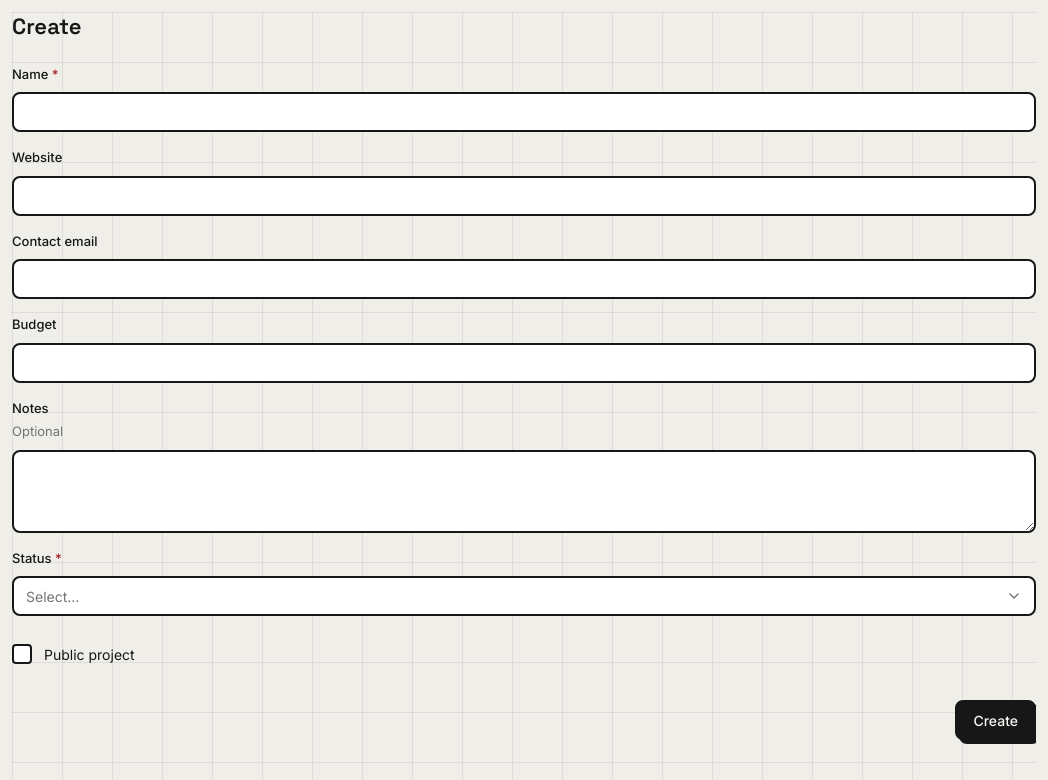
Test case: CreateEditForm › checks the shape of url, email and number values
Type "Atlas" into the field labelled "Name *" at (524, 112), box [26,94,1022,130]
Click the dropdown named "Status" at (53, 596), box [12,576,1036,616]
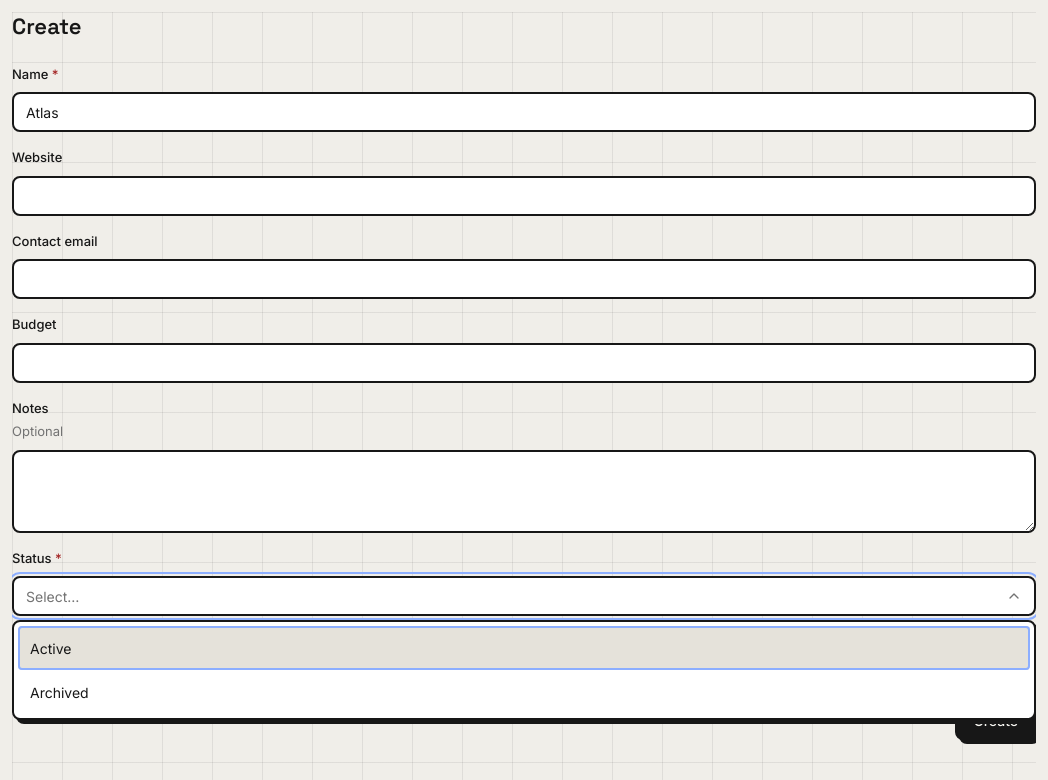
Click the option "Active" at (51, 648), box [18,626,1030,670]
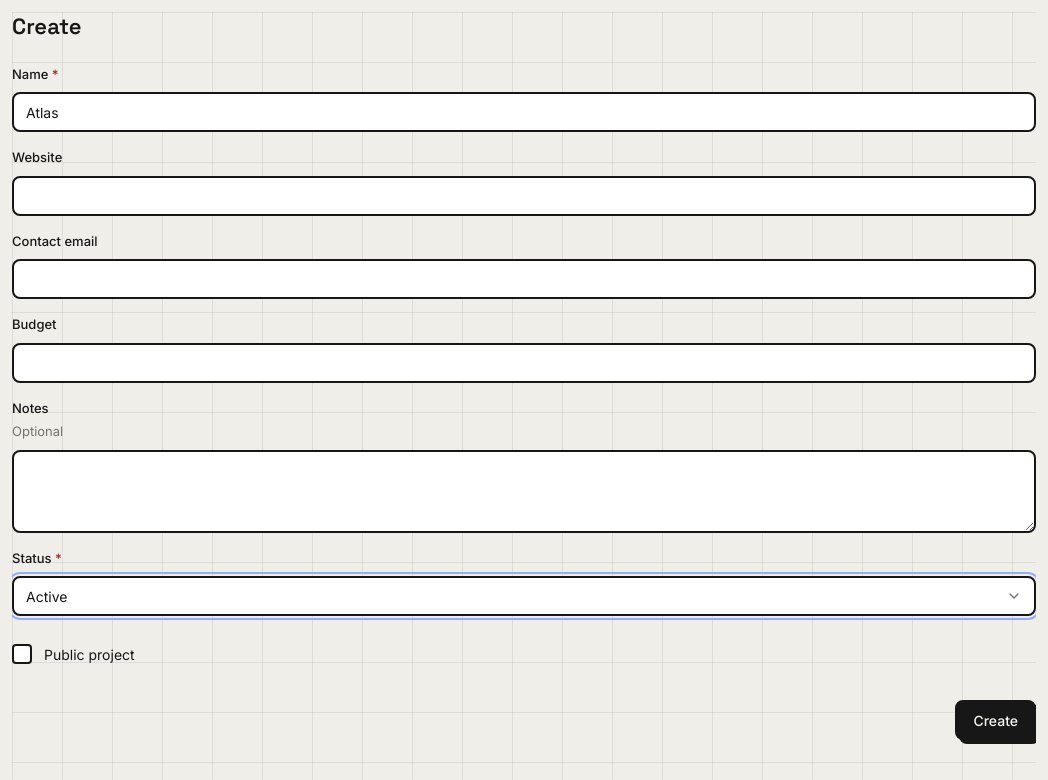
Type "example.com" into the field labelled "Website" at (524, 196), box [26,178,1022,214]
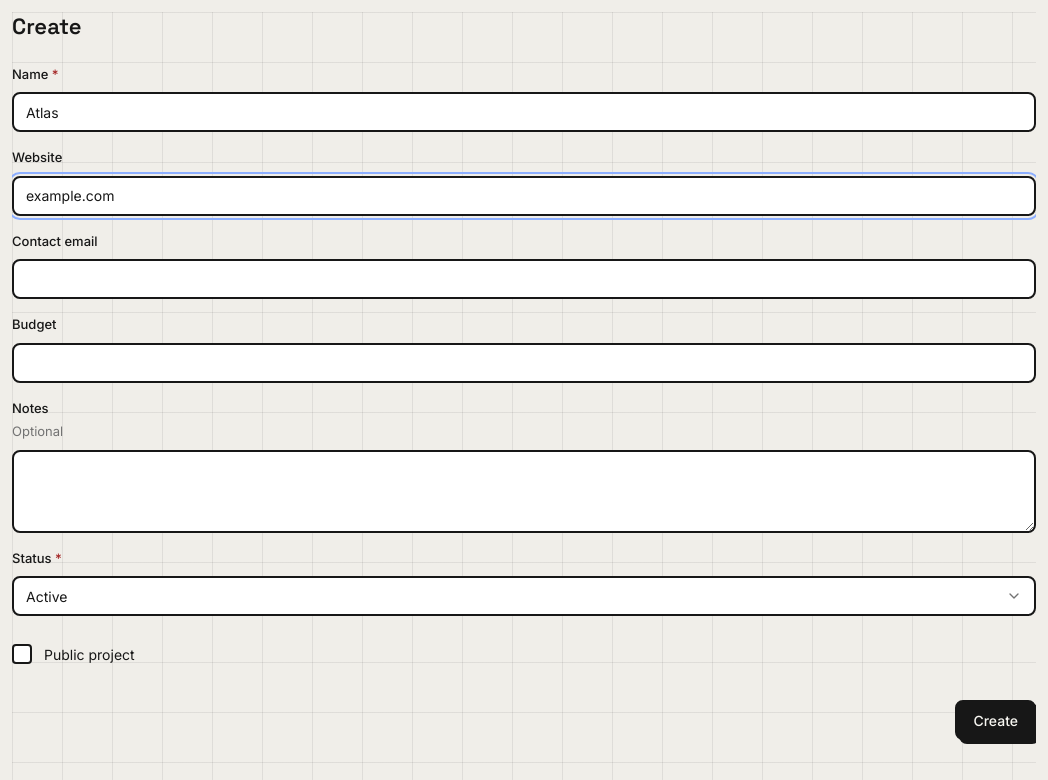
Type "nope" into the field labelled "Contact email" at (524, 279), box [26,261,1022,297]
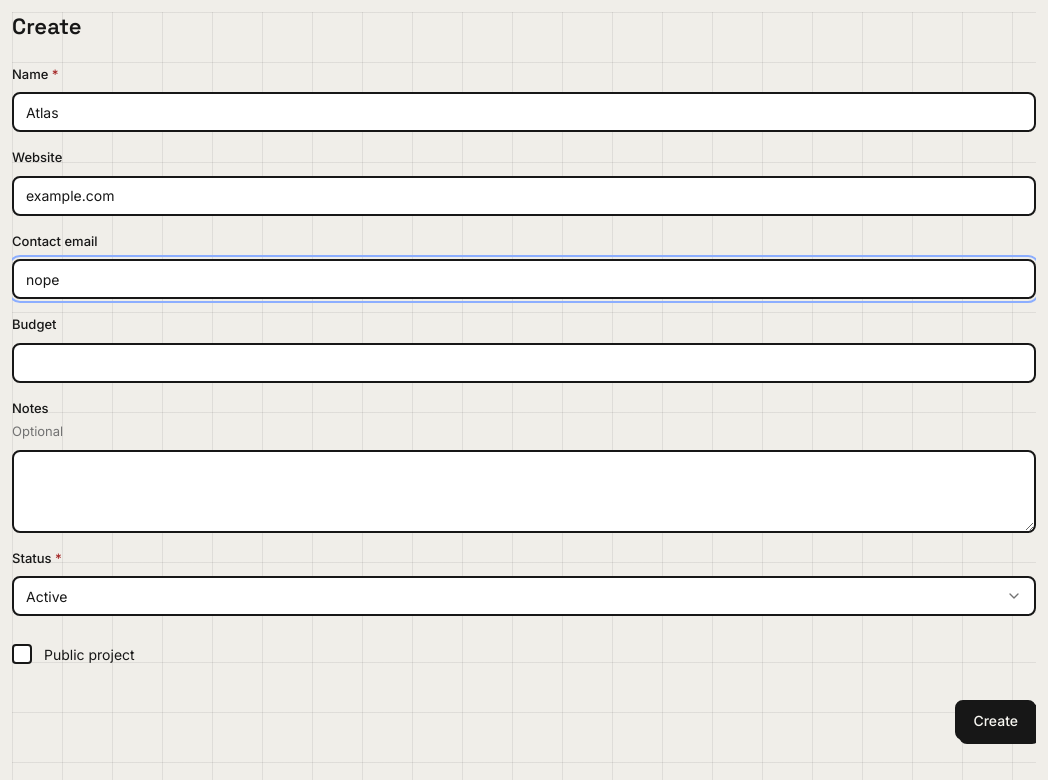
Type "abc" into the field labelled "Budget" at (524, 363), box [26,345,1022,381]
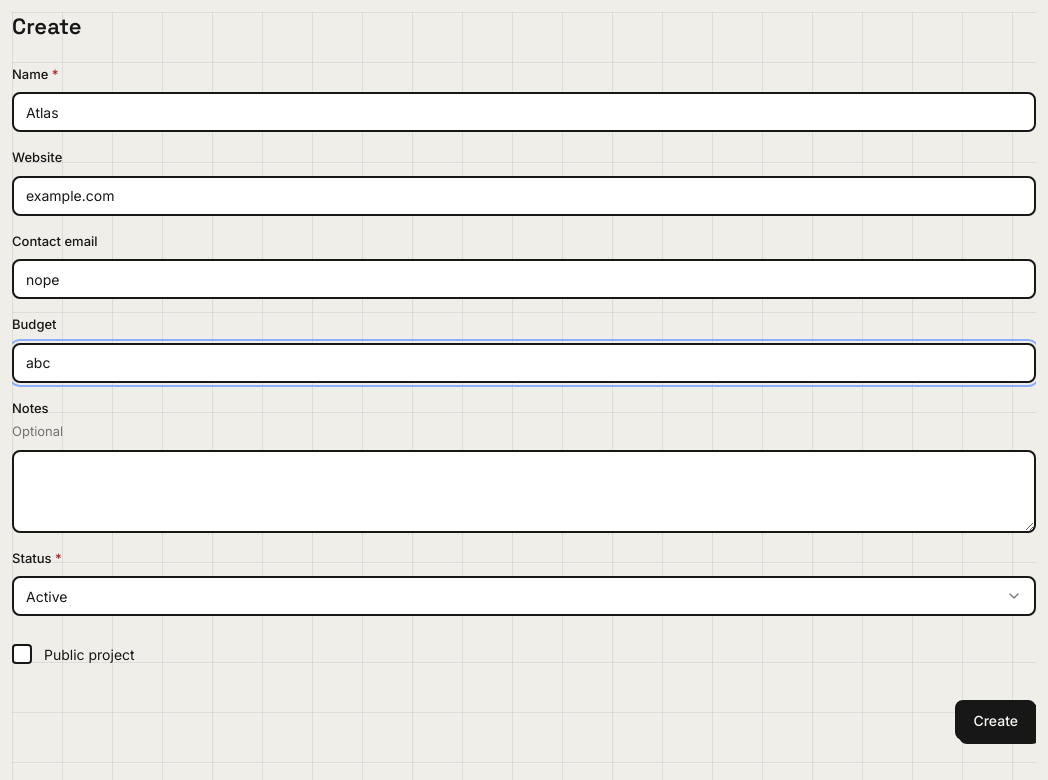
Click the button "Create" at (996, 720), box [955,700,1036,740]
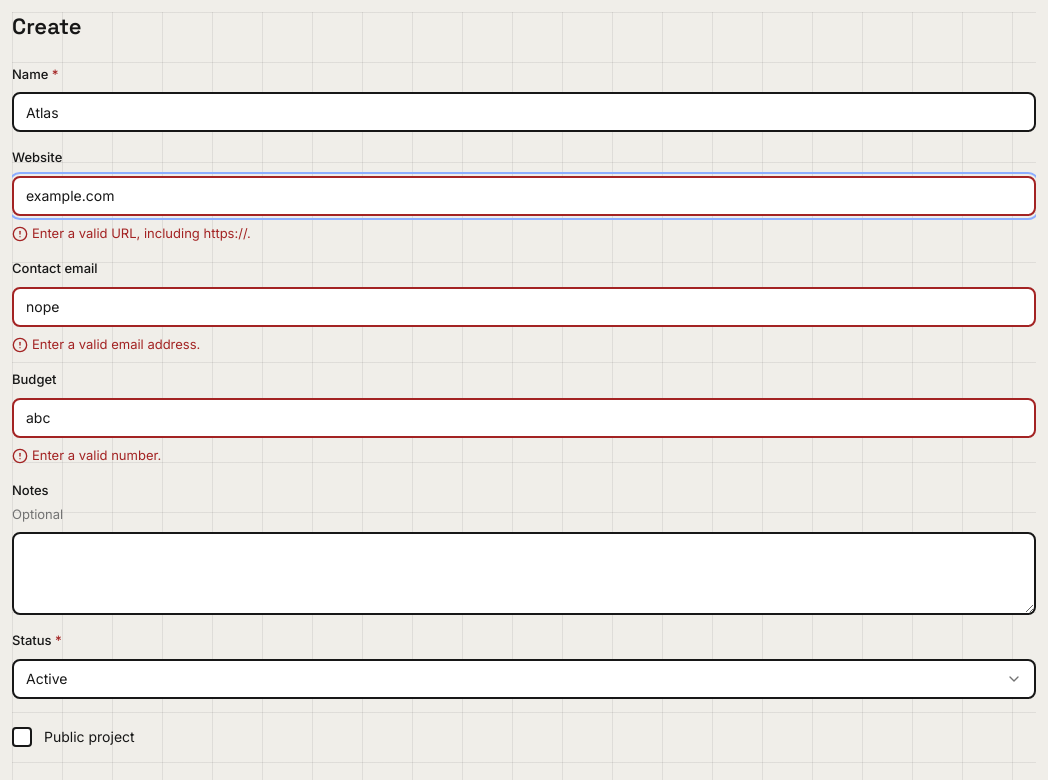
Result: the text "Enter a valid URL, including https://." is shown at [32,224,251,243]
Result: the text "Enter a valid email address." is shown at [32,335,200,354]
Result: the text "Enter a valid number." is shown at [32,446,161,465]
